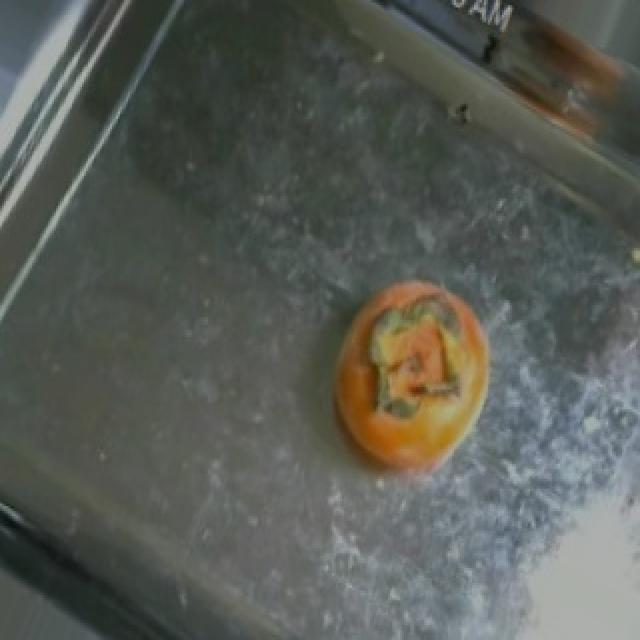Fruit: (308, 261, 508, 504)
